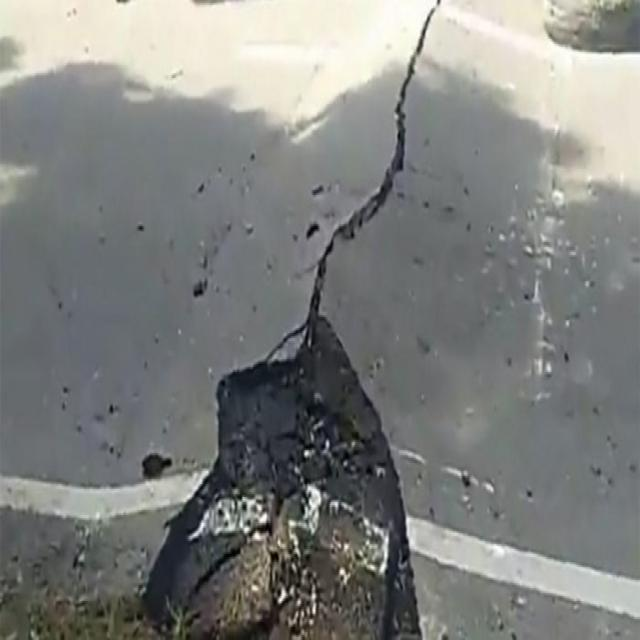Pothole: (143, 239, 613, 640)
